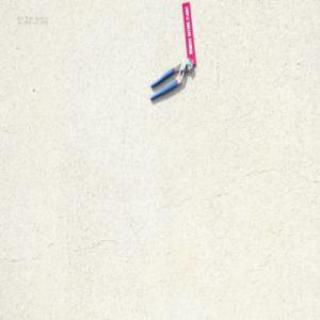LuggageTagtrack_idkeyframe: (181, 0, 196, 65)
Pliertrack_idkeyframe: (149, 54, 194, 100)
